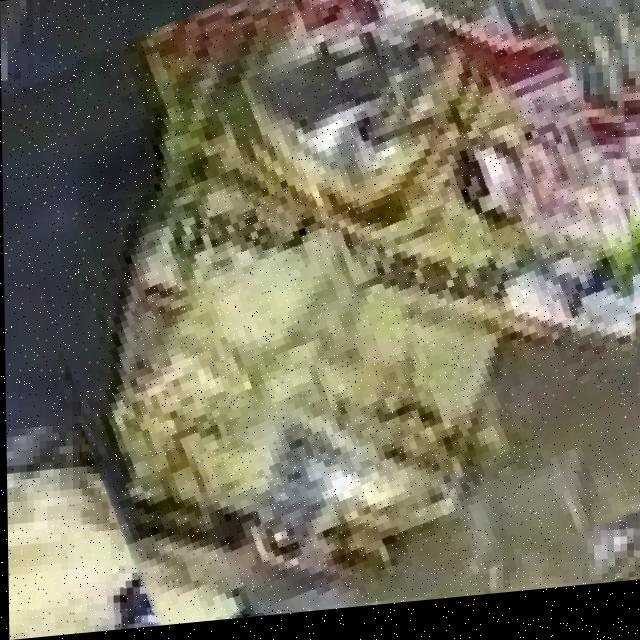litter: (80, 0, 638, 611)
